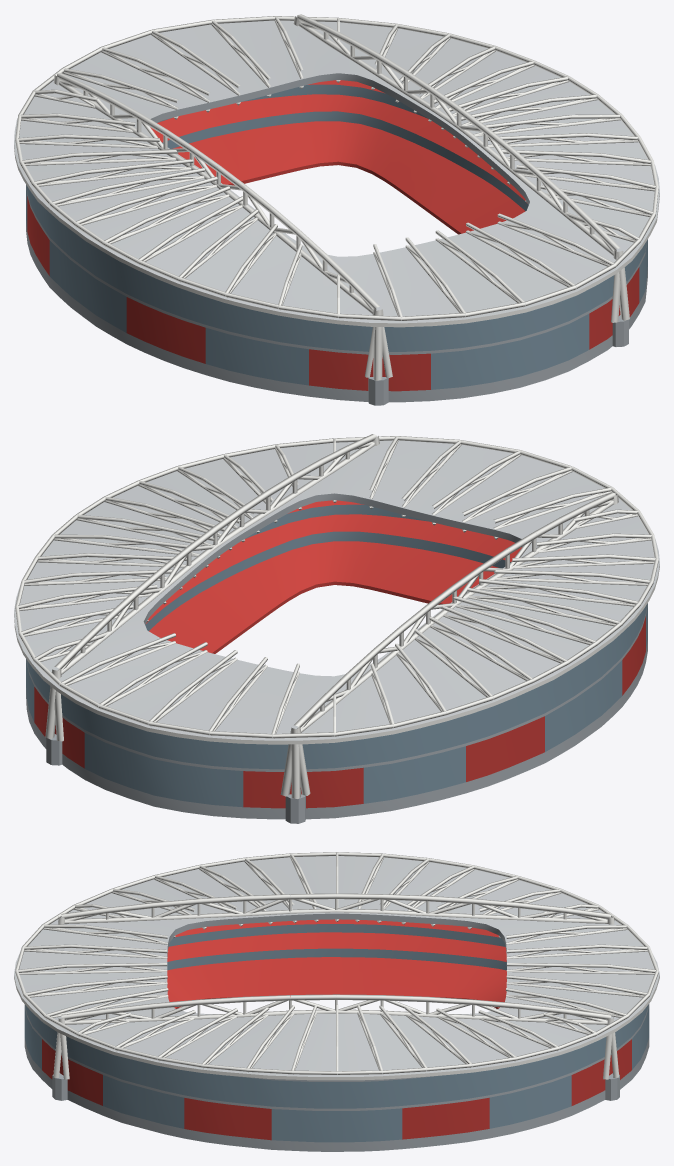
File: london-emirates-stadium.glb
The picture shows the model from 3 angles, top to bottom: view 1: azimuth 30°, elevation 25°; view 2: azimuth 150°, elevation 25°; view 3: azimuth 270°, elevation 25°; orthographic projection. The views are drawn at different scales.
Parts seen in each view (by area): view 1: Emirates Stadium; view 2: Emirates Stadium; view 3: Emirates Stadium.
Part boxes in pixels (<box>): Emirates Stadium: <box>14,14,659,405</box>; Emirates Stadium: <box>14,434,659,823</box>; Emirates Stadium: <box>14,852,659,1151</box>.
Bounding box in the file's own units: 197 × 42.28 × 244.
